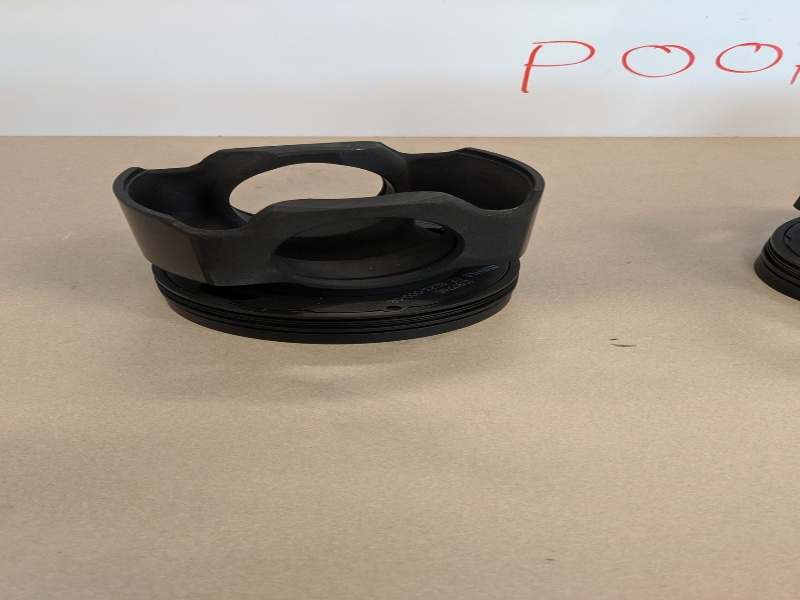piston: (105, 135, 554, 354)
